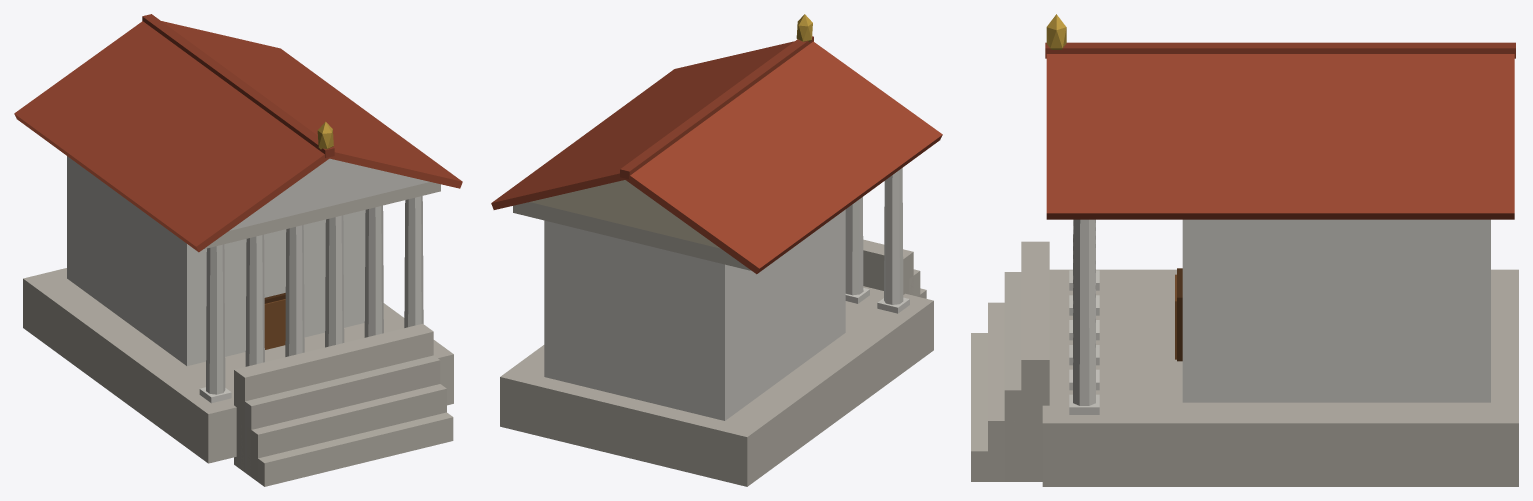
File: angel_landmark.glb
3 views of the same model, side by side, from view 1: azimuth 30°, elevation 25°; view 2: azimuth 150°, elevation 25°; view 3: azimuth 270°, elevation 25° (orthographic). The views are drawn at different scales.
Visible parts, largest first — view 1: angel_landmark; view 2: angel_landmark; view 3: angel_landmark.
Boxes of the visible parts, <box> form: angel_landmark: <box>14,14,462,486</box>; angel_landmark: <box>491,14,942,486</box>; angel_landmark: <box>971,14,1518,486</box>.
Size of the model in its own units: 2.82 by 3.22 by 3.91.
